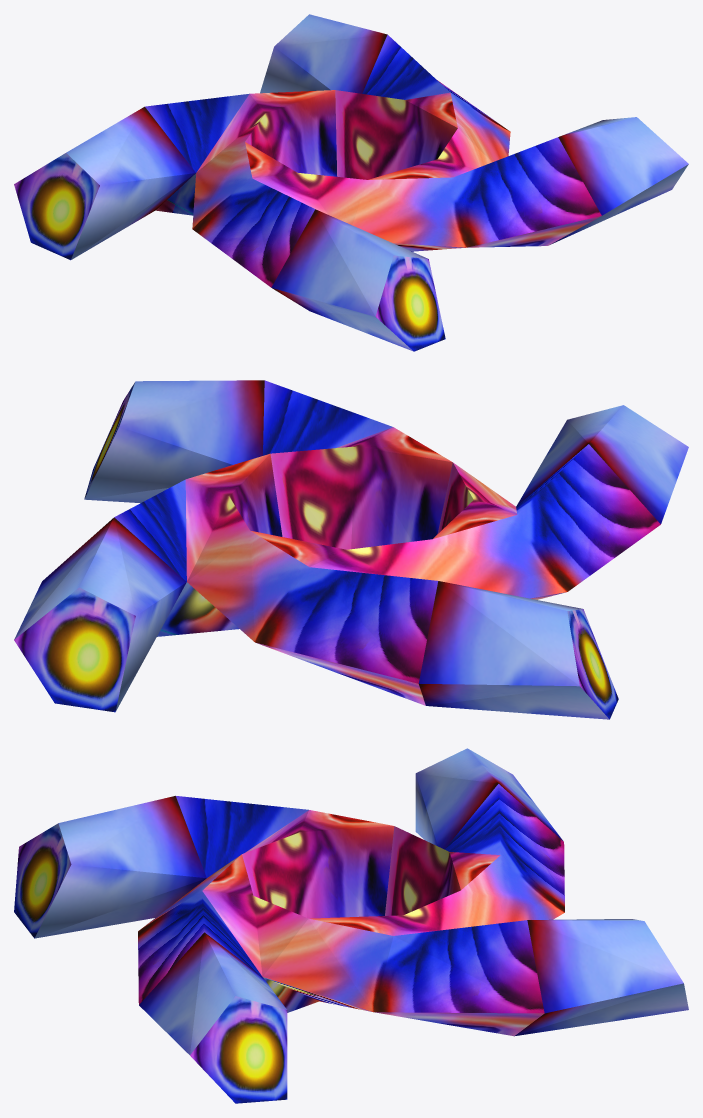
File: ufo-17.fbx
3 views of the same model, one above another, from view 1: azimuth 30°, elevation 25°; view 2: azimuth 150°, elevation 25°; view 3: azimuth 270°, elevation 25° (orthographic). The views are drawn at different scales.
Visible parts, largest first — view 1: ufo-17; view 2: ufo-17; view 3: ufo-17.
Boxes of the visible parts, bbox=[...] form: ufo-17: bbox=[14, 14, 688, 351]; ufo-17: bbox=[14, 380, 688, 719]; ufo-17: bbox=[14, 748, 688, 1103].
Size of the model in its own units: 58.37 by 11.1 by 58.37.
